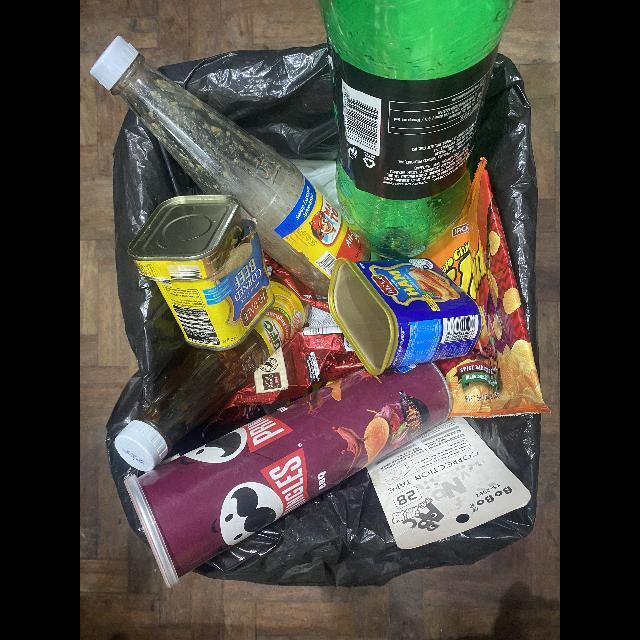glass: (90, 34, 370, 298), (114, 275, 309, 472)
metal: (127, 195, 275, 351), (327, 257, 482, 375)
paper: (124, 364, 453, 588), (366, 417, 531, 549)
plastic: (319, 0, 520, 260)
wrapper: (413, 157, 552, 419)
